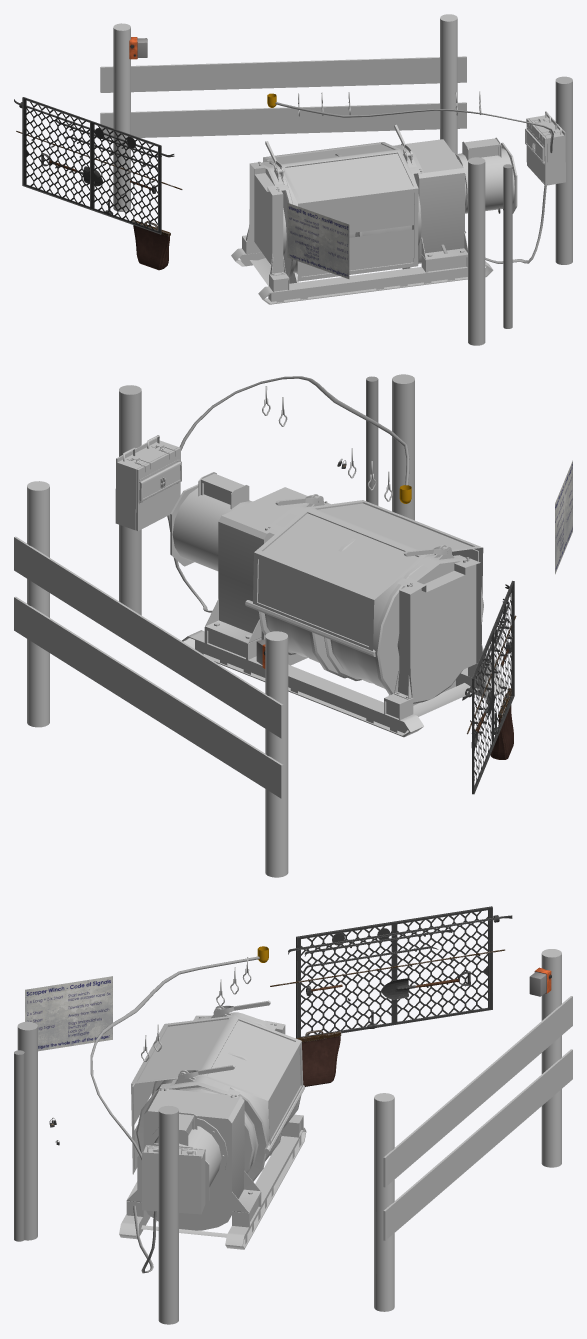
Rendered from Face winch power box on the wrong side.fbx.
The picture shows the model from 3 angles, top to bottom: view 1: azimuth 30°, elevation 25°; view 2: azimuth 150°, elevation 25°; view 3: azimuth 270°, elevation 25°; orthographic projection. The views are drawn at different scales.
Parts seen in each view (by area): view 1: Winch__1_, Winch_005__1_, Tool_rack_001, Cube_001, Cube_001.001, Code_of_signals.001, Cylinder_003, Cylinder_001, Cylinder_003__1_, Power_Box.001, Cylinder_002, Cylinder_013 (+1 smaller); view 2: Winch__1_, Winch_005__1_, Cube_001, Cube_001.001, Tool_rack_001, Power_Box.001, Cylinder_001, Cylinder_002, Cylinder_003__1_, Cylinder_003, Cylinder_013, Code_of_signals.001 (+1 smaller); view 3: Winch__1_, Tool_rack_001, Winch_005__1_, Cube_001.001, Cube_001, Code_of_signals.001, Cylinder_003__1_, Cylinder_002, Cylinder_003, Cylinder_001, Power_Box.001, Cylinder_013 (+2 smaller).
Part boxes in pixels (x1=…): Winch__1_: x1=231, y1=124, x2=517, y2=304; Winch_005__1_: x1=263, y1=142, x2=418, y2=281; Tool_rack_001: x1=14, y1=97, x2=182, y2=270; Cube_001: x1=100, y1=56, x2=466, y2=92; Cube_001.001: x1=100, y1=102, x2=466, y2=138; Code_of_signals.001: x1=287, y1=203, x2=349, y2=278; Cylinder_003: x1=468, y1=157, x2=485, y2=345; Cylinder_001: x1=113, y1=23, x2=130, y2=211; Cylinder_003__1_: x1=555, y1=76, x2=572, y2=264; Power_Box.001: x1=525, y1=111, x2=565, y2=185; Cylinder_002: x1=440, y1=14, x2=457, y2=154; Cylinder_013: x1=503, y1=164, x2=512, y2=328; Winch__1_: x1=170, y1=472, x2=507, y2=737; Winch_005__1_: x1=253, y1=500, x2=483, y2=650; Cube_001: x1=14, y1=536, x2=283, y2=738; Cube_001.001: x1=14, y1=596, x2=283, y2=798; Tool_rack_001: x1=462, y1=580, x2=516, y2=794; Power_Box.001: x1=115, y1=435, x2=181, y2=530; Cylinder_001: x1=265, y1=631, x2=288, y2=877; Cylinder_002: x1=27, y1=481, x2=49, y2=727; Cylinder_003__1_: x1=119, y1=385, x2=141, y2=615; Cylinder_003: x1=392, y1=374, x2=414, y2=520; Cylinder_013: x1=366, y1=376, x2=378, y2=505; Code_of_signals.001: x1=555, y1=460, x2=572, y2=574; Winch__1_: x1=119, y1=1000, x2=306, y2=1249; Tool_rack_001: x1=270, y1=906, x2=512, y2=1086; Winch_005__1_: x1=131, y1=1015, x2=303, y2=1174; Cube_001.001: x1=383, y1=1049, x2=572, y2=1240; Cube_001: x1=383, y1=996, x2=572, y2=1187; Code_of_signals.001: x1=25, y1=976, x2=112, y2=1051; Cylinder_003__1_: x1=158, y1=1105, x2=178, y2=1324; Cylinder_002: x1=374, y1=1093, x2=394, y2=1311; Cylinder_003: x1=17, y1=1021, x2=37, y2=1240; Cylinder_001: x1=541, y1=949, x2=561, y2=1167; Power_Box.001: x1=142, y1=1145, x2=205, y2=1214; Cylinder_013: x1=14, y1=1050, x2=24, y2=1241.
Bounding box in the file's own units: 419 × 195 × 425.
